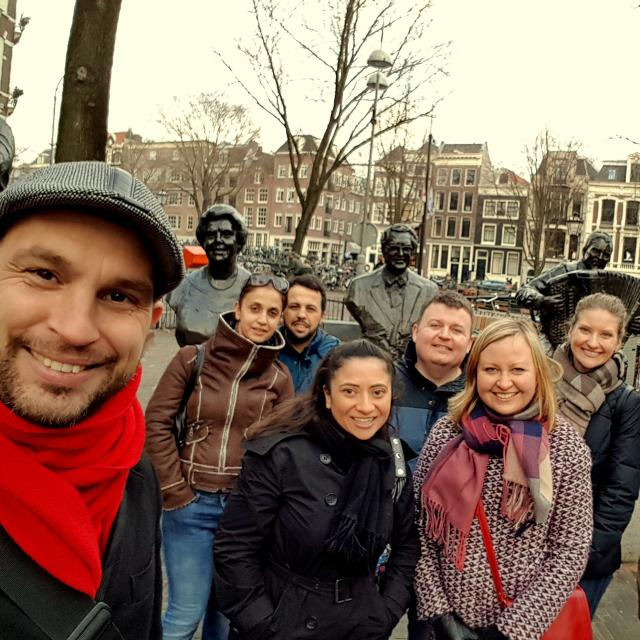body: (0, 160, 188, 640), (206, 335, 432, 640), (140, 266, 305, 640), (408, 316, 597, 640), (541, 290, 640, 626), (382, 290, 477, 638), (158, 196, 286, 347), (508, 224, 640, 339), (346, 220, 448, 334), (273, 275, 343, 398)
